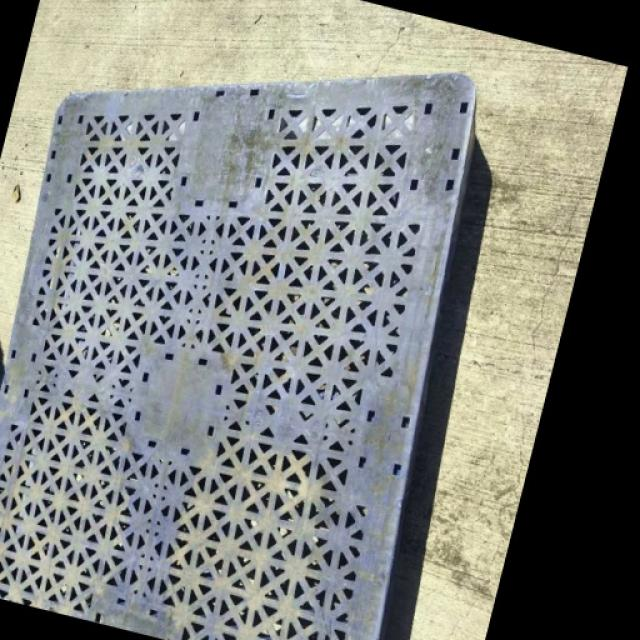non-igps: (0, 62, 484, 640)
